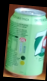sevenup: (5, 8, 46, 78)
